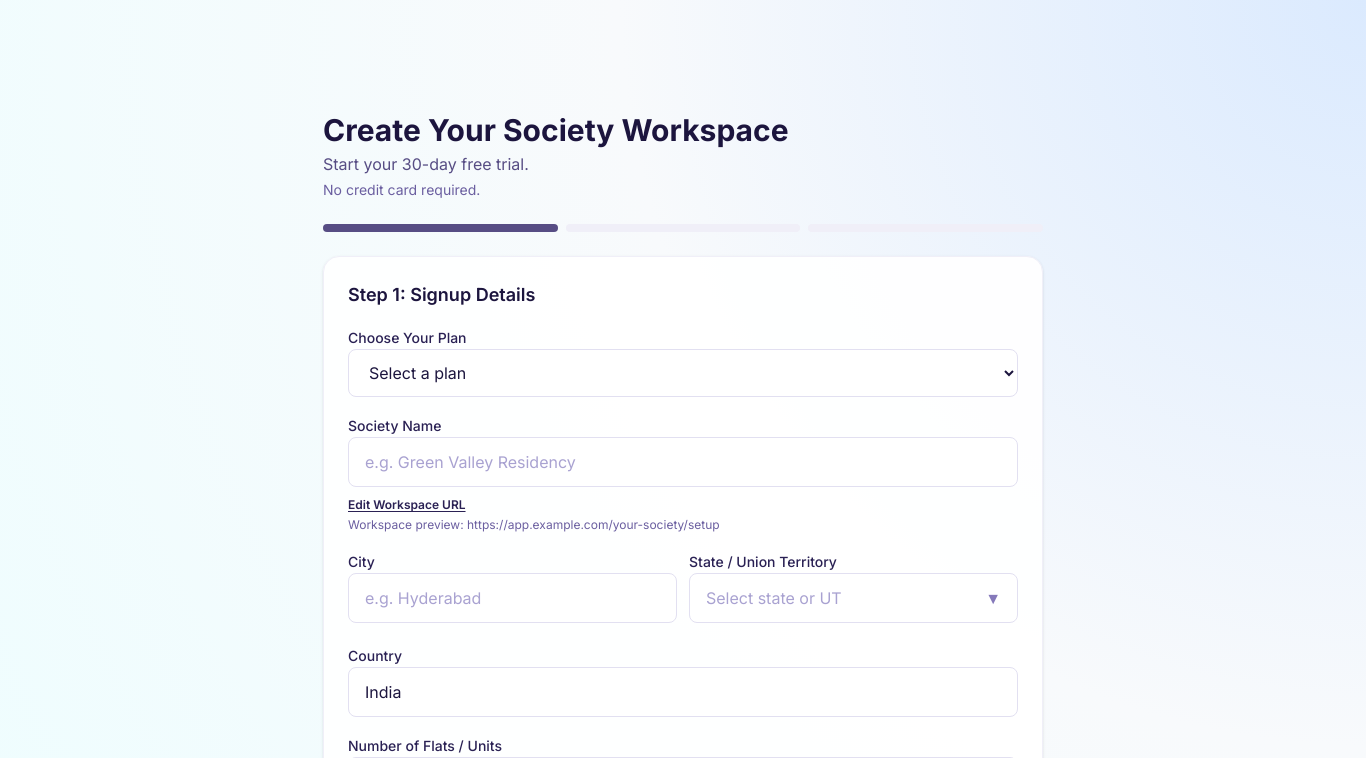
SocietySignupPage › shows a suggested workspace URL when the derived slug is taken
Type "Green Valley Residency" into the field labelled "Society Name".
click(683, 462); type("Green Valley Residency")  # box top-left (348, 437), bottom-right (1018, 487)
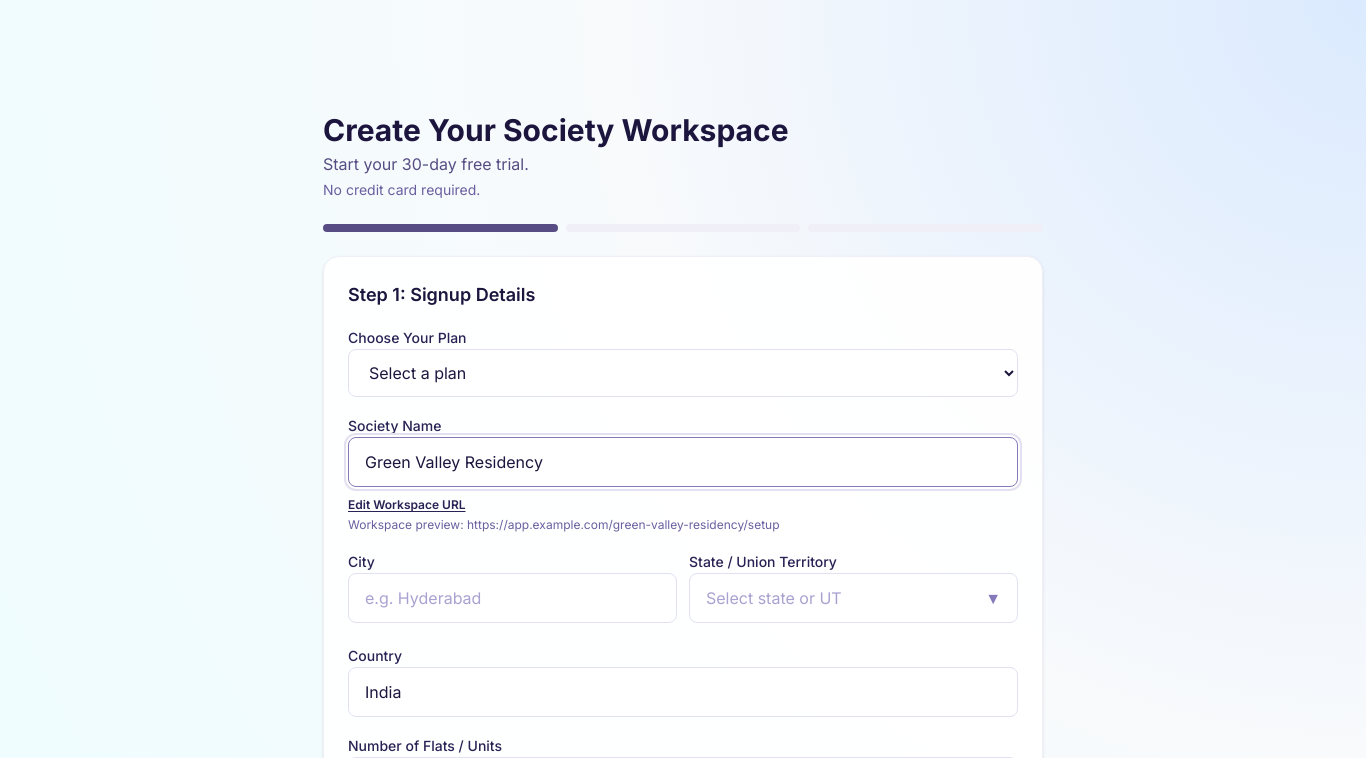
Press Tab
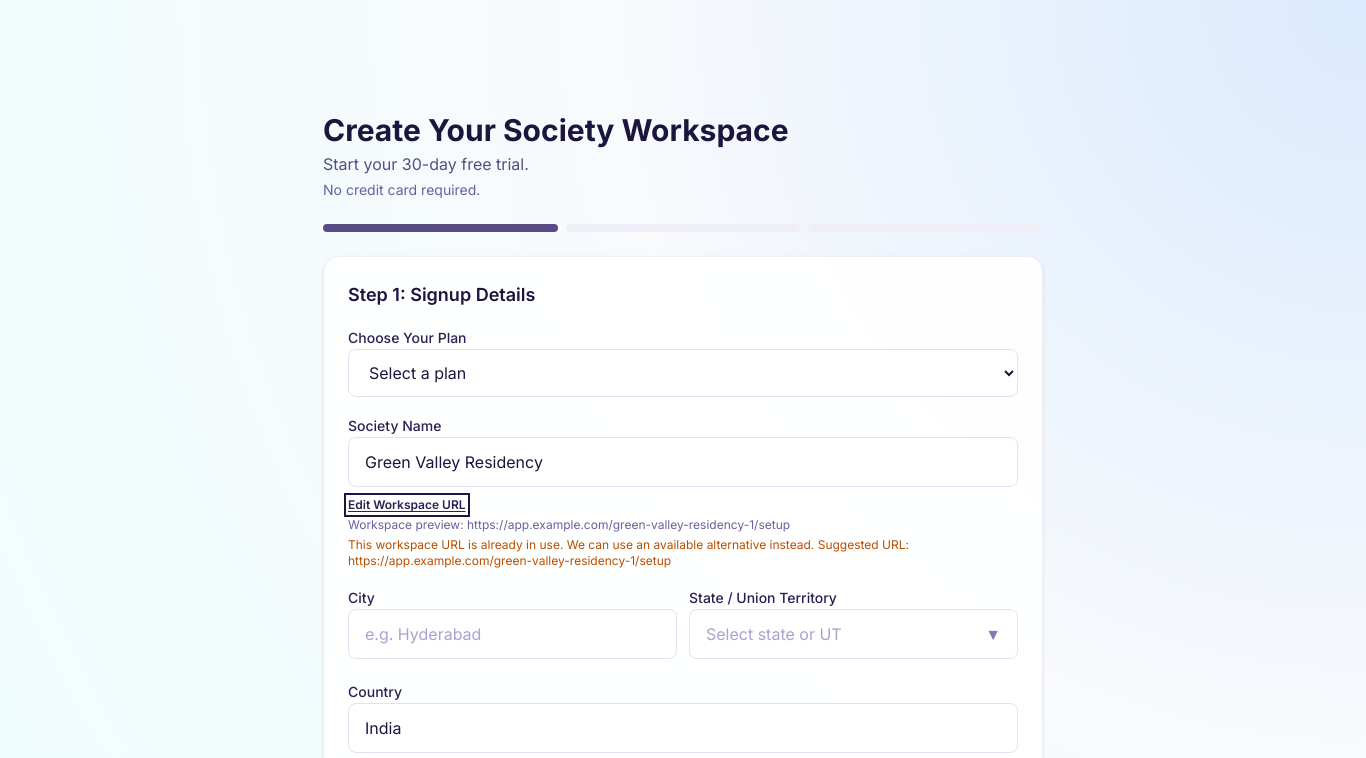
Now the text "This workspace URL is already in use" is shown, box top-left (348, 537), bottom-right (814, 552)
Now the text "Workspace preview: https://app.example.com/green-valley-residency-1/setup" is shown, box top-left (348, 517), bottom-right (790, 532)
